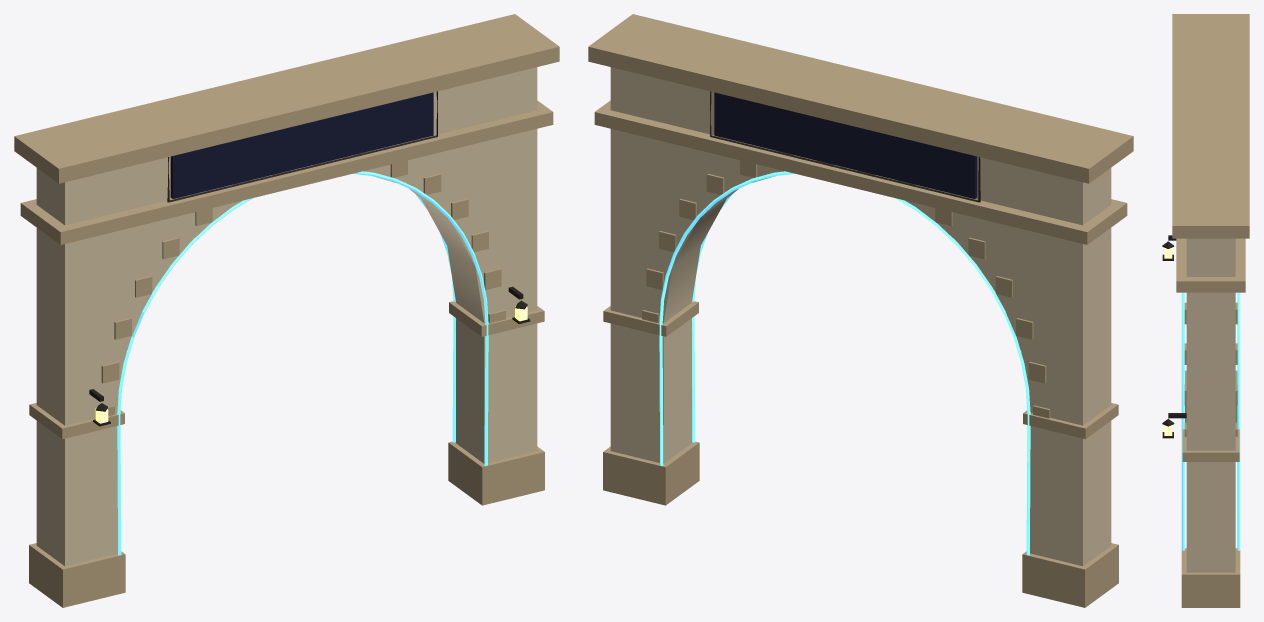
3 renders of one model, left to right at view 1: azimuth 30°, elevation 25°; view 2: azimuth 150°, elevation 25°; view 3: azimuth 270°, elevation 25°, orthographic. The views are drawn at different scales.
Visible parts, largest first — view 1: gate.lod1; view 2: gate.lod1; view 3: gate.lod1.
Boxes of the visible parts, left/top/right/bottom form: gate.lod1: left=14, top=14, right=559, bottom=607; gate.lod1: left=588, top=14, right=1133, bottom=607; gate.lod1: left=1162, top=14, right=1249, bottom=607.
Bounding box in the file's own units: 12.3 × 10.45 × 2.15.
